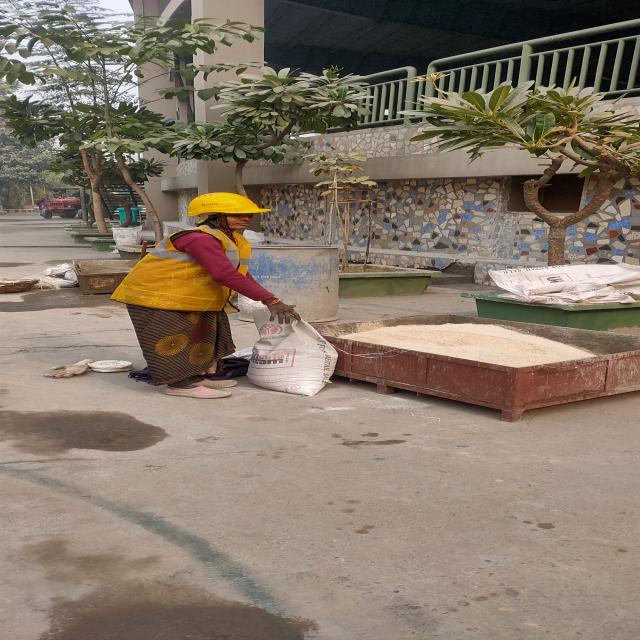safe: (107, 190, 291, 398)
